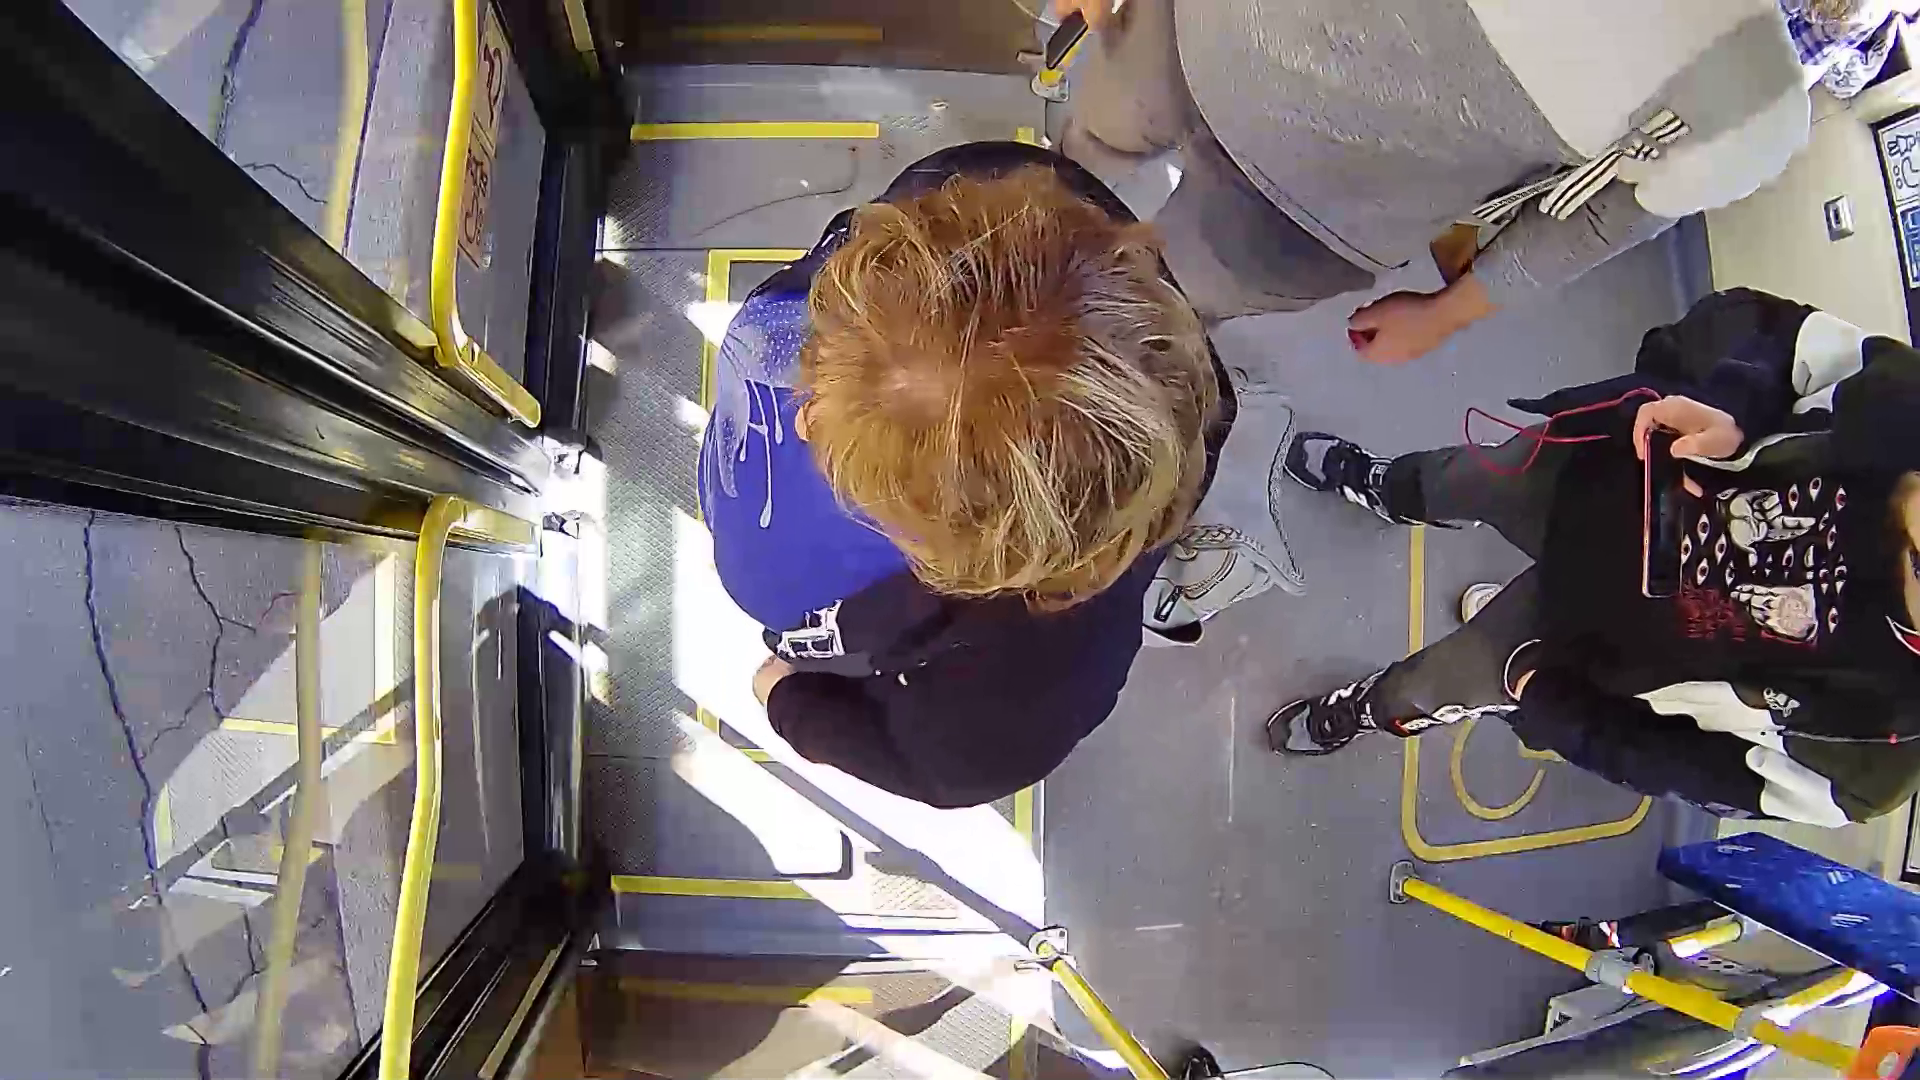person: (697, 131, 1301, 870)
